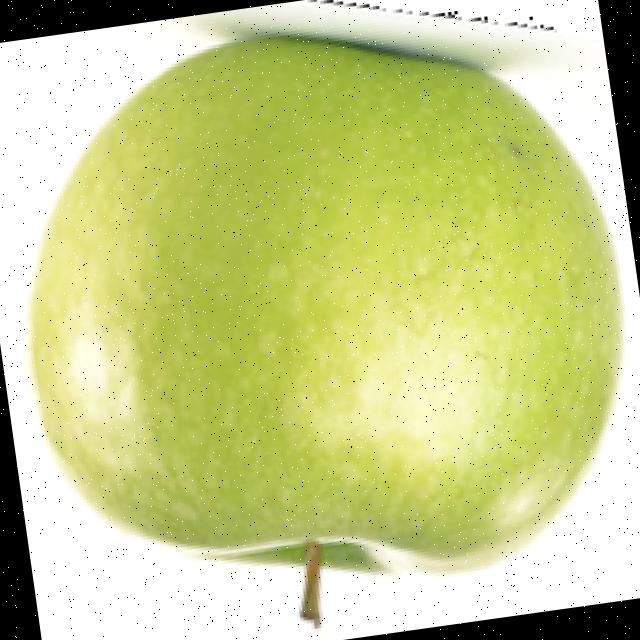apple: (22, 0, 627, 635)
